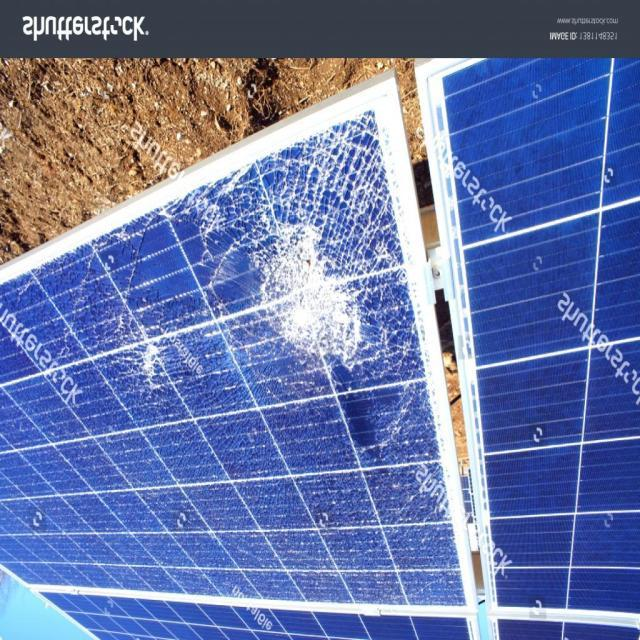cracked: (1, 73, 474, 612)
